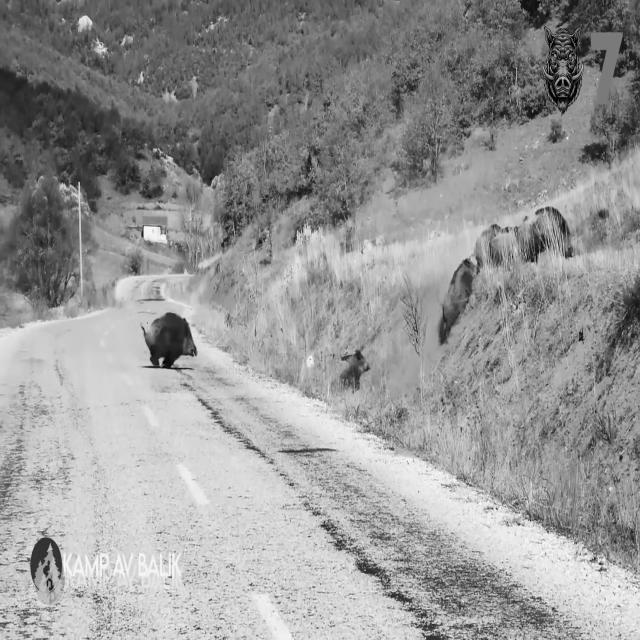boar: (475, 205, 572, 269), (439, 258, 477, 343), (141, 312, 196, 367), (439, 268, 468, 342), (340, 350, 371, 391)
